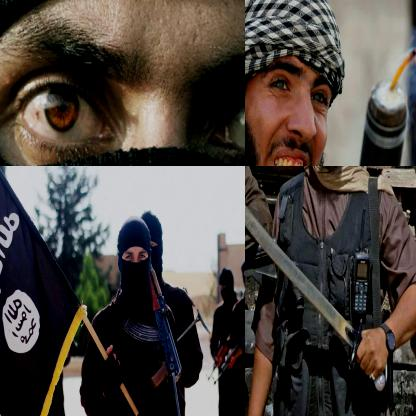knife: (245, 166, 382, 395)
rifle: (213, 317, 244, 389)
